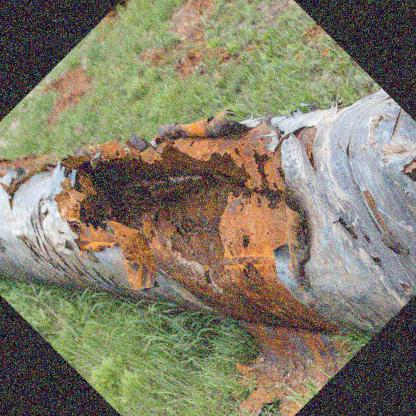burst: (66, 149, 303, 281)
